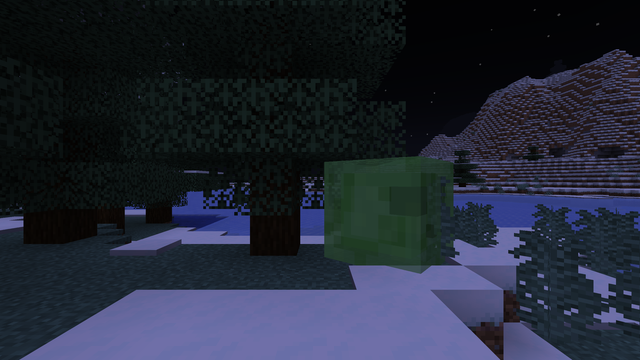slimes: (338, 153, 466, 272)
